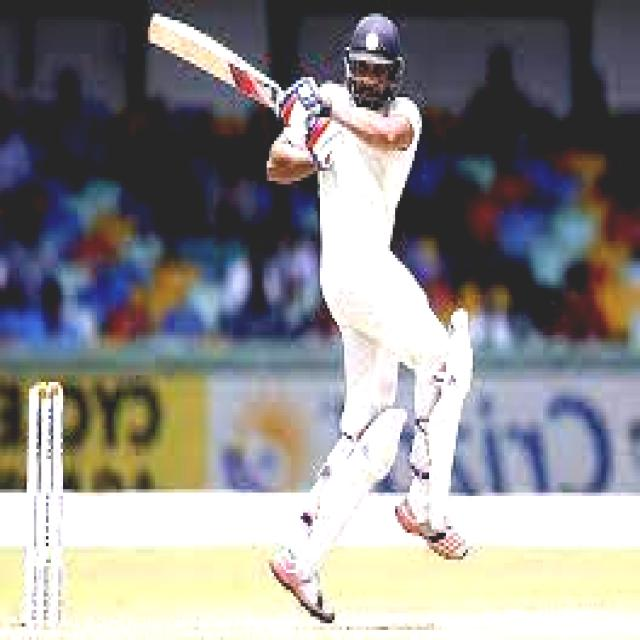toe: (148, 5, 170, 51)
